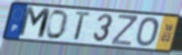3: (91, 13, 114, 43)
M: (17, 5, 53, 41)
O: (45, 8, 70, 41), (135, 17, 160, 48)
T: (74, 10, 93, 43)
Z: (110, 13, 139, 47)
